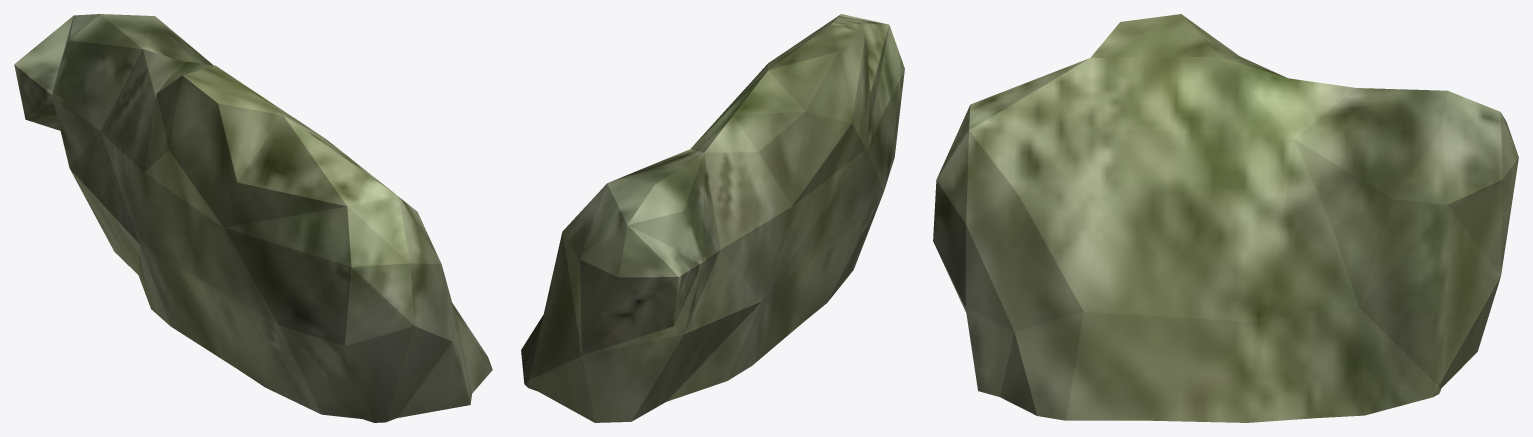
3 views of the same model, side by side, from view 1: azimuth 30°, elevation 25°; view 2: azimuth 150°, elevation 25°; view 3: azimuth 270°, elevation 25° (orthographic). The views are drawn at different scales.
Size of the model in its own units: 0.4317 by 0.4651 by 0.8519.
1 material, 1 textured.
